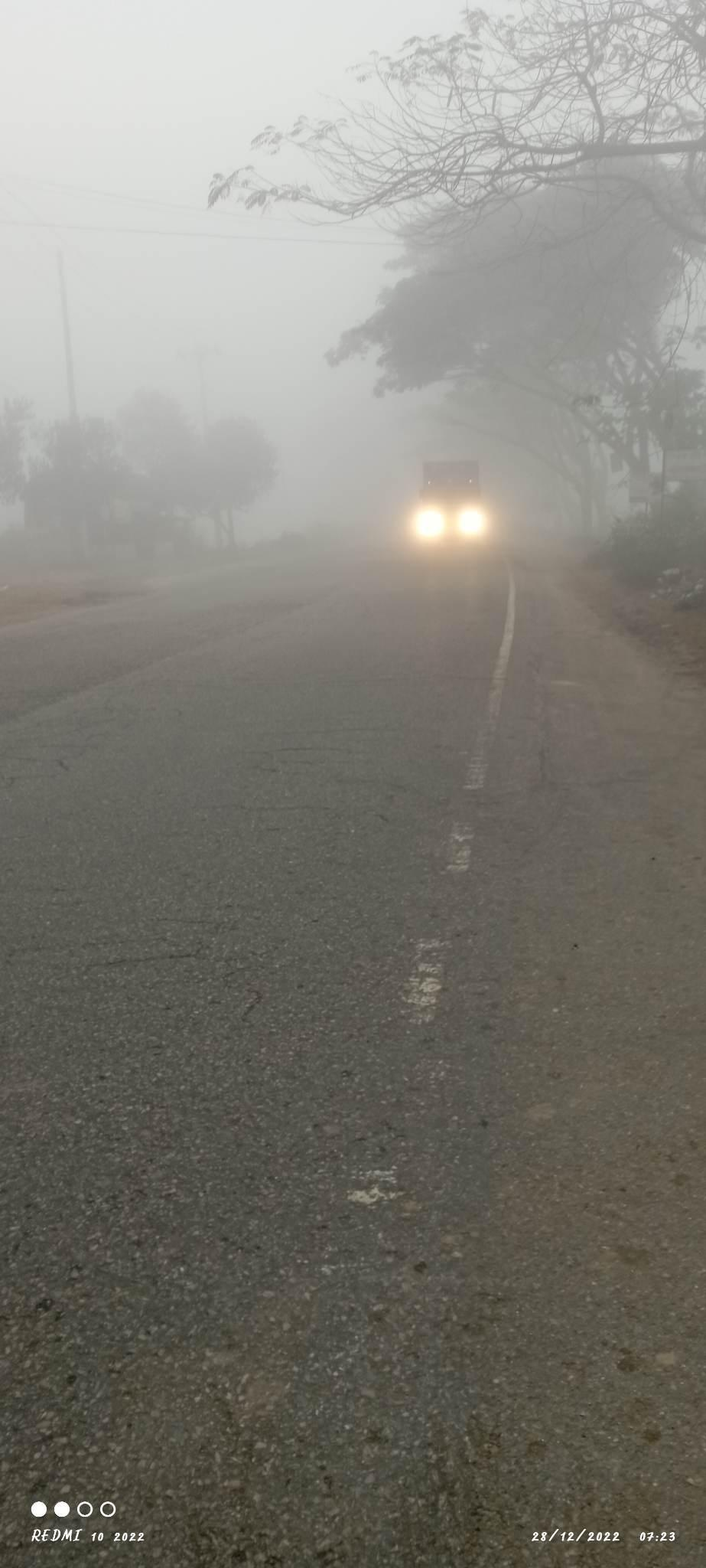Truck: (403, 443, 538, 566)
